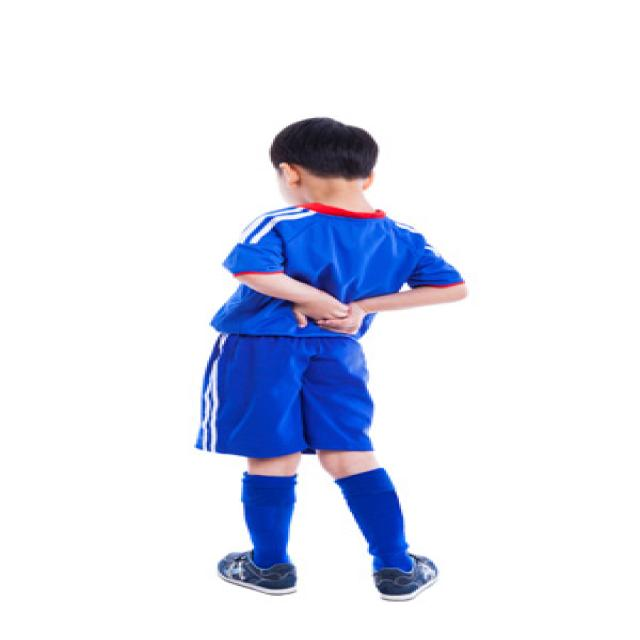child: (197, 116, 473, 604)
